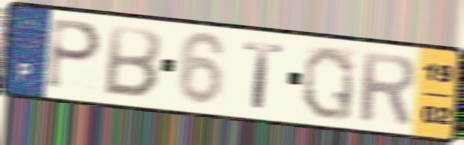6: (174, 30, 232, 111)
B: (100, 22, 165, 100)
P: (44, 16, 104, 93)
Q: (299, 43, 357, 124)
R: (358, 49, 419, 128)
T: (241, 39, 287, 111)
